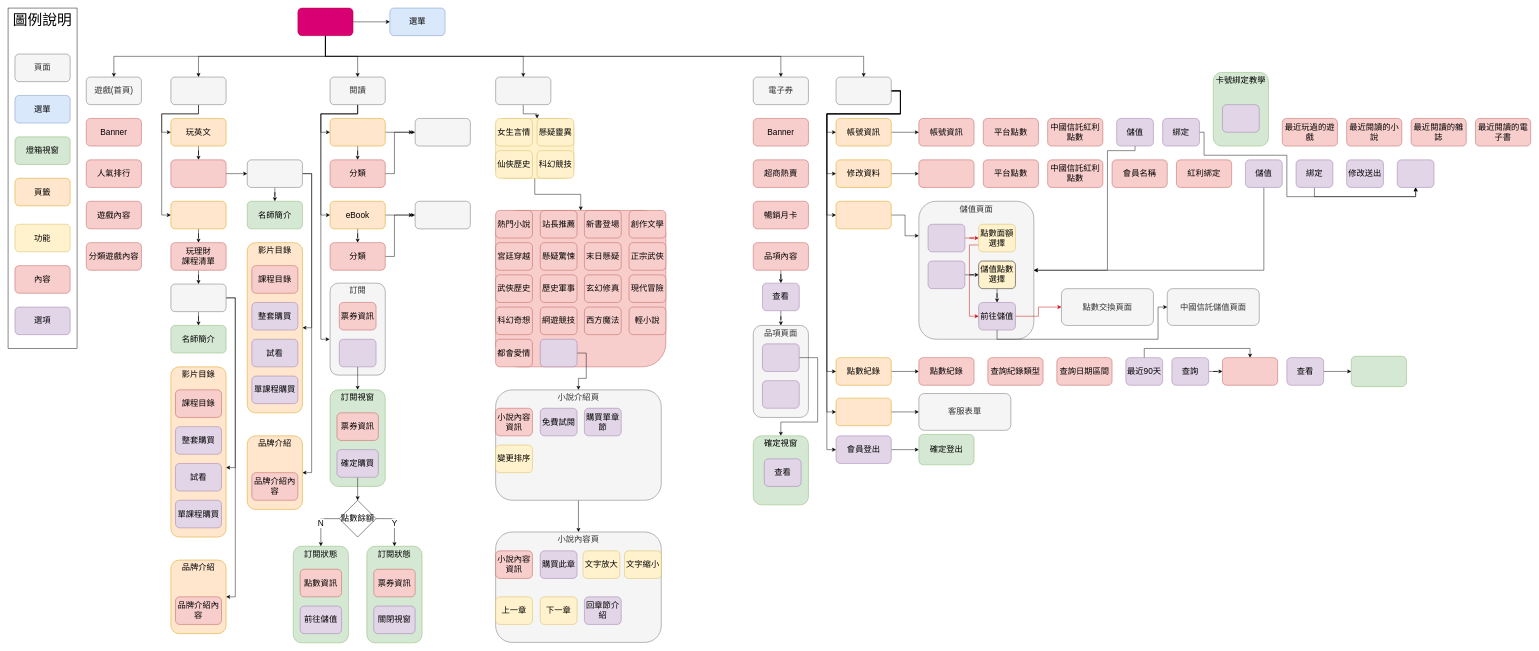
Some shapes in this 1539 by 651 pixel diagram are drawn without their labels. Each missing label, with the centre of its shape:
"eBook單文頁" goes at (442,215).
"Wakool" goes at (325,22).
"下次不再顯示" goes at (1240,118).
"信用卡" goes at (946,275).
"回列表" goes at (780,394).
"小說" goes at (523,91).
"小說item" goes at (558,353).
"平台帳號 (平台名稱)" goes at (946,173).
"會員" goes at (863,91).
"期刊雜誌" goes at (357,132).
"玩理財" goes at (198,215).
"玩理財 單文頁" goes at (198,298).
"玩英文 單文頁" goes at (274,173).
"玩英文 課程清單" goes at (198,173).
"知識" goes at (198,91).
"紅利綁定表單" goes at (1415,173).
"紅利點兌換" goes at (946,238).
"累計儲值/消費資料" goes at (1250,371).
"聯絡客服" goes at (863,412).
"詳細資料" goes at (1378,371).
"購買" goes at (780,357).
"購買月票" goes at (357,353).
"雜誌單文頁" goes at (442,132).
"點數儲值" goes at (863,215).
